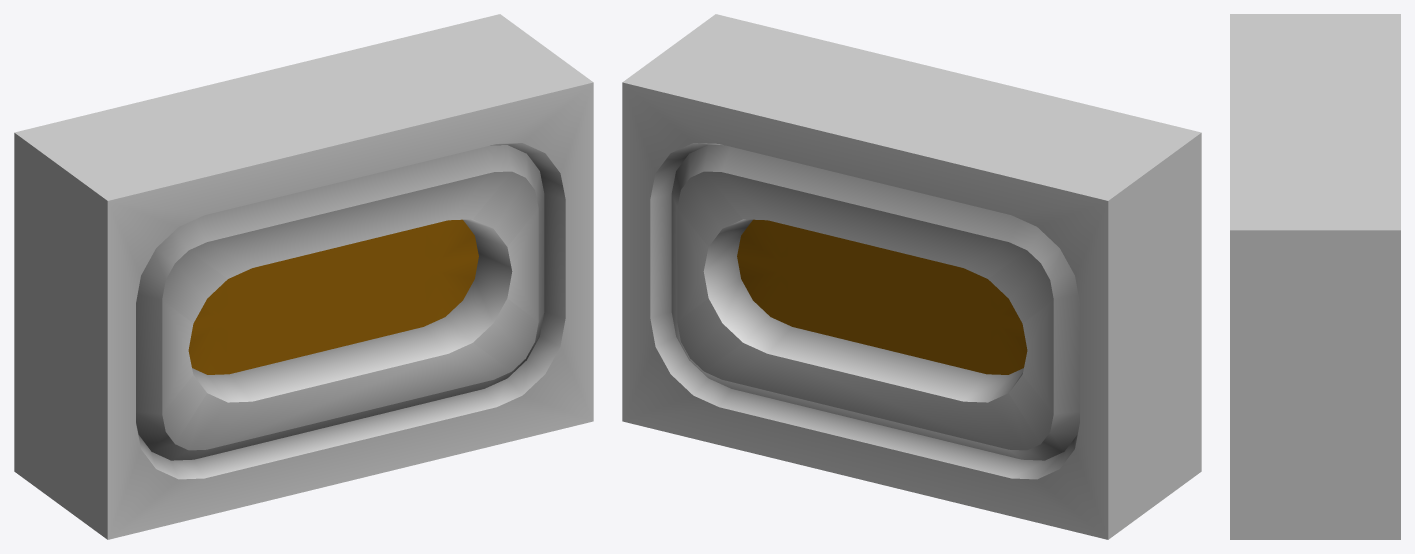
File: obj_dekotora_pillshapelight.fbx
3 views of the same model, side by side, from view 1: azimuth 30°, elevation 25°; view 2: azimuth 150°, elevation 25°; view 3: azimuth 270°, elevation 25° (orthographic). The views are drawn at different scales.
Visible parts, largest first — view 1: Cube.001; view 2: Cube.001; view 3: Cube.001.
Boxes of the visible parts, <box> form: Cube.001: <box>14,14,593,539</box>; Cube.001: <box>622,14,1201,539</box>; Cube.001: <box>1230,14,1400,539</box>.
Bounding box in the file's own units: 3 × 2 × 1.
